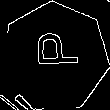P_W: (28, 37, 80, 77)
